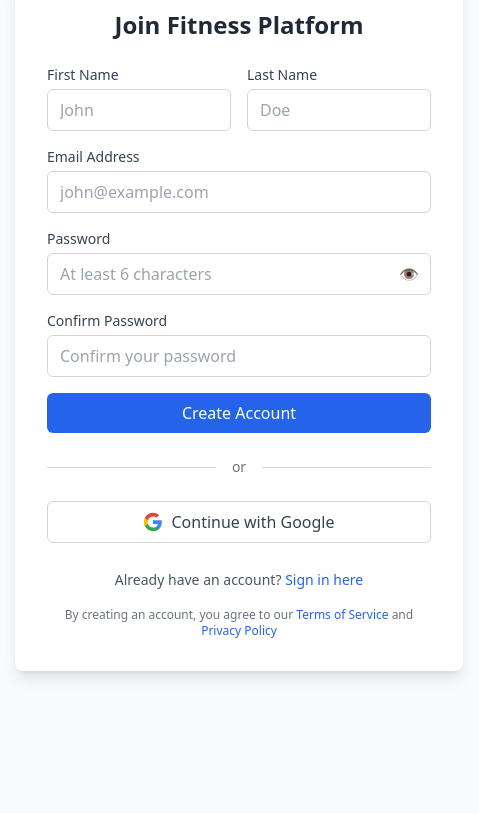
Test case: SignupForm › should validate password confirmation match
In the password field labelled "Password": point(239, 274) [47,253,431,295], type "password123"
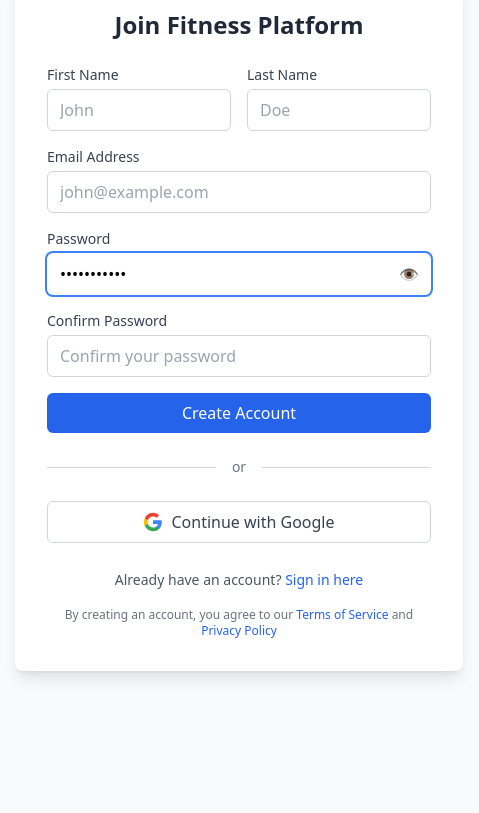
In the password field labelled "Confirm Password": point(239, 356) [47,335,431,377], type "different123"
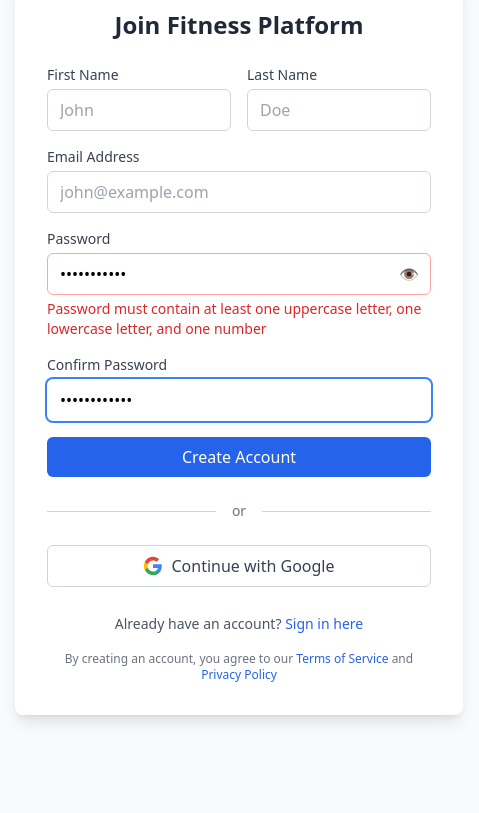
Click the button "Create Account": point(239, 457) [47,437,431,477]
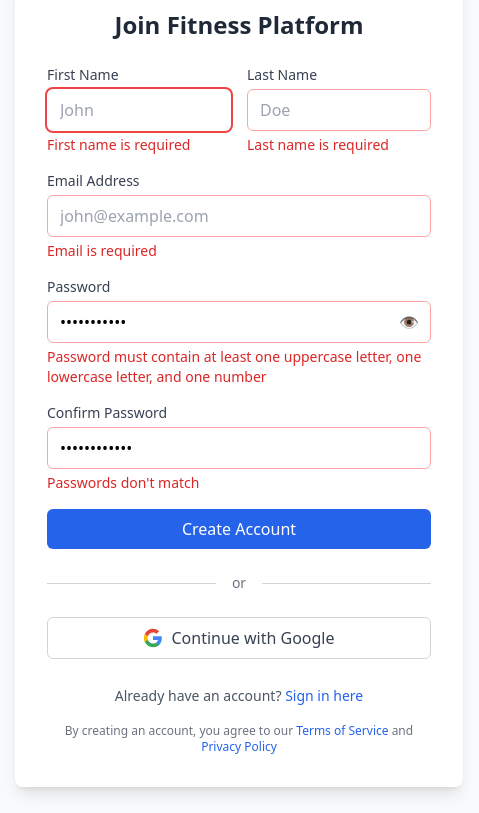
Now the text "Passwords don't match" is shown, box [47,473,200,492]
